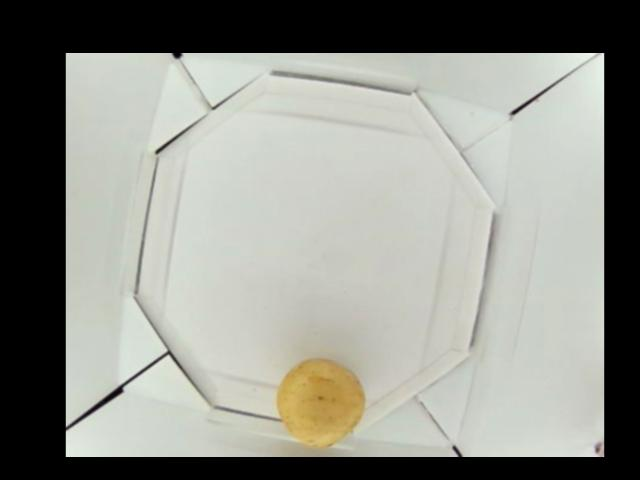Potato: (277, 357, 361, 450)
